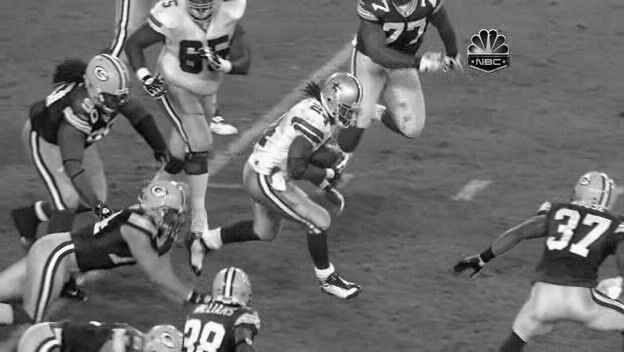person: (326, 75, 362, 125), (325, 75, 361, 125), (327, 75, 363, 125), (326, 74, 362, 124), (326, 76, 362, 126)
target_negative: (62, 12, 202, 225), (2, 214, 453, 249), (402, 283, 515, 307), (461, 272, 527, 310), (175, 318, 307, 328), (248, 237, 274, 279)
